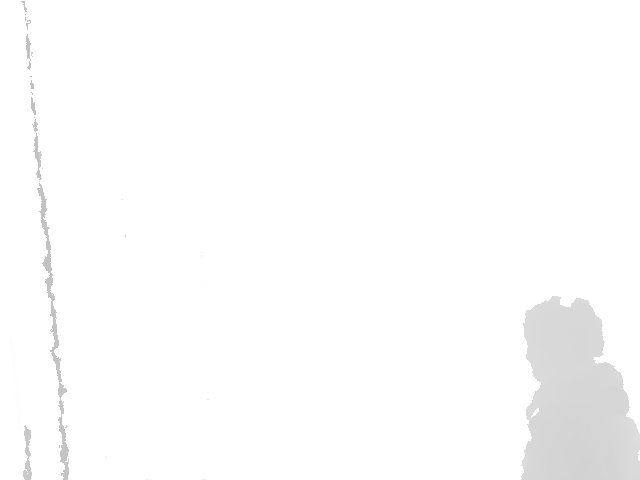head: (524, 298, 603, 384)
person: (521, 299, 640, 480)
